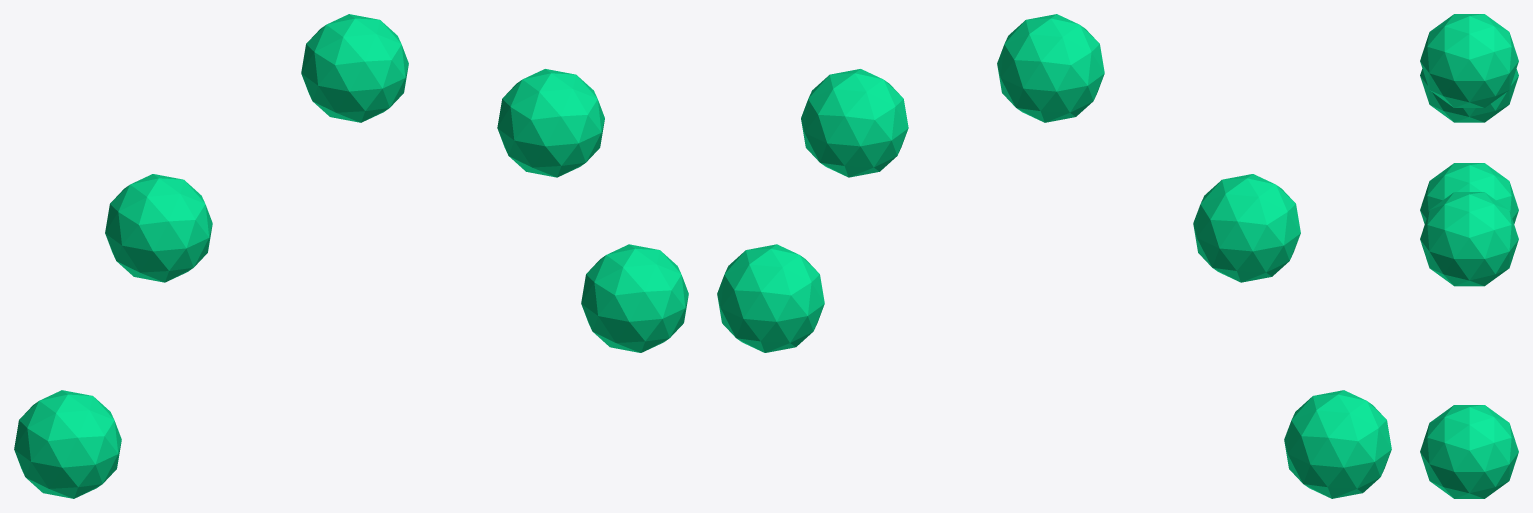
File: Enlightened.fbx
3 renders of one model, left to right at view 1: azimuth 30°, elevation 25°; view 2: azimuth 150°, elevation 25°; view 3: azimuth 270°, elevation 25°, orthographic. The views are drawn at different scales.
Visible parts, largest first — view 1: Icosphere.004, Icosphere.003, Icosphere.001, Icosphere.002, Icosphere; view 2: Icosphere.004, Icosphere.003, Icosphere.001, Icosphere.002, Icosphere; view 3: Icosphere.001, Icosphere, Icosphere.002, Icosphere.004, Icosphere.003.
Part boxes in pixels (bbox=[...]): Icosphere.004: bbox=[14, 390, 121, 498]; Icosphere.003: bbox=[105, 174, 212, 282]; Icosphere.001: bbox=[497, 69, 604, 177]; Icosphere.002: bbox=[301, 14, 408, 122]; Icosphere: bbox=[581, 244, 688, 352]; Icosphere.004: bbox=[1284, 390, 1391, 498]; Icosphere.003: bbox=[1193, 174, 1300, 282]; Icosphere.001: bbox=[801, 69, 908, 177]; Icosphere.002: bbox=[997, 14, 1104, 122]; Icosphere: bbox=[717, 244, 824, 352]; Icosphere.001: bbox=[1420, 192, 1518, 286]; Icosphere: bbox=[1420, 405, 1518, 498]; Icosphere.002: bbox=[1420, 14, 1518, 107]; Icosphere.004: bbox=[1420, 163, 1518, 223]; Icosphere.003: bbox=[1420, 69, 1518, 122].
Size of the model in its own units: 379 by 224 by 55.06.
